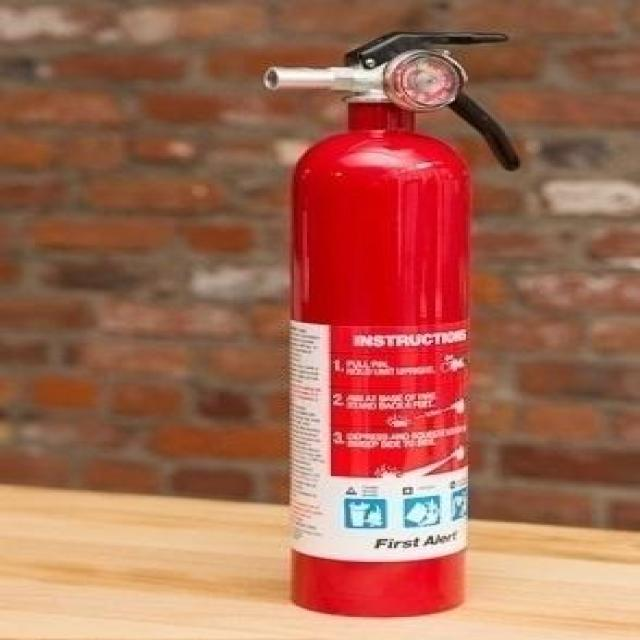fire_extinguisher: (254, 24, 526, 622)
